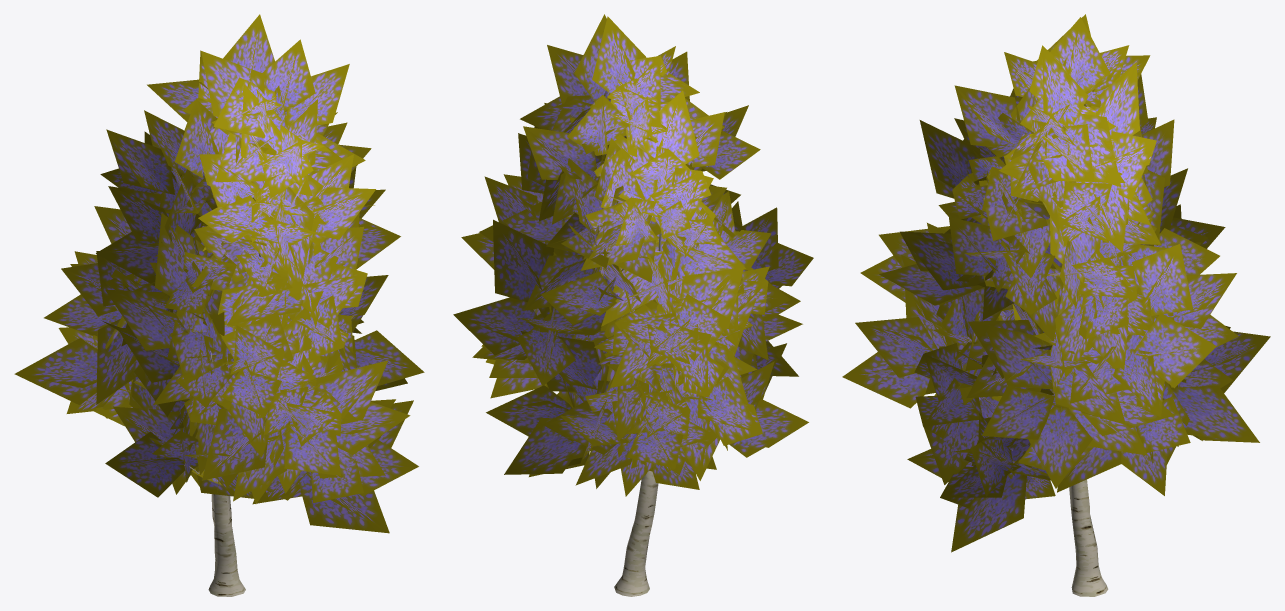
The model's file is Homeworld_Exterior_Common_Plant_Tree_08_Lod0.fbx.
The picture shows the model from 3 angles, left to right: view 1: azimuth 30°, elevation 25°; view 2: azimuth 150°, elevation 25°; view 3: azimuth 270°, elevation 25°; orthographic projection. The views are drawn at different scales.
Visible parts, largest first — view 1: Stages_Birchtree02_Leaf_Lod0, Stages_Birchtree01_Bark_Lod0; view 2: Stages_Birchtree02_Leaf_Lod0, Stages_Birchtree01_Bark_Lod0; view 3: Stages_Birchtree02_Leaf_Lod0, Stages_Birchtree01_Bark_Lod0.
Part boxes in pixels (x1=…): Stages_Birchtree02_Leaf_Lod0: x1=14, y1=14, x2=424, y2=533; Stages_Birchtree01_Bark_Lod0: x1=184, y1=253, x2=262, y2=596; Stages_Birchtree02_Leaf_Lod0: x1=453, y1=14, x2=813, y2=496; Stages_Birchtree01_Bark_Lod0: x1=614, y1=231, x2=661, y2=596; Stages_Birchtree02_Leaf_Lod0: x1=842, y1=14, x2=1270, y2=552; Stages_Birchtree01_Bark_Lod0: x1=1012, y1=450, x2=1108, y2=596.
Size of the model in its own units: 11.46 by 18.54 by 12.28.
Materials: 2 (2 with a texture image).
